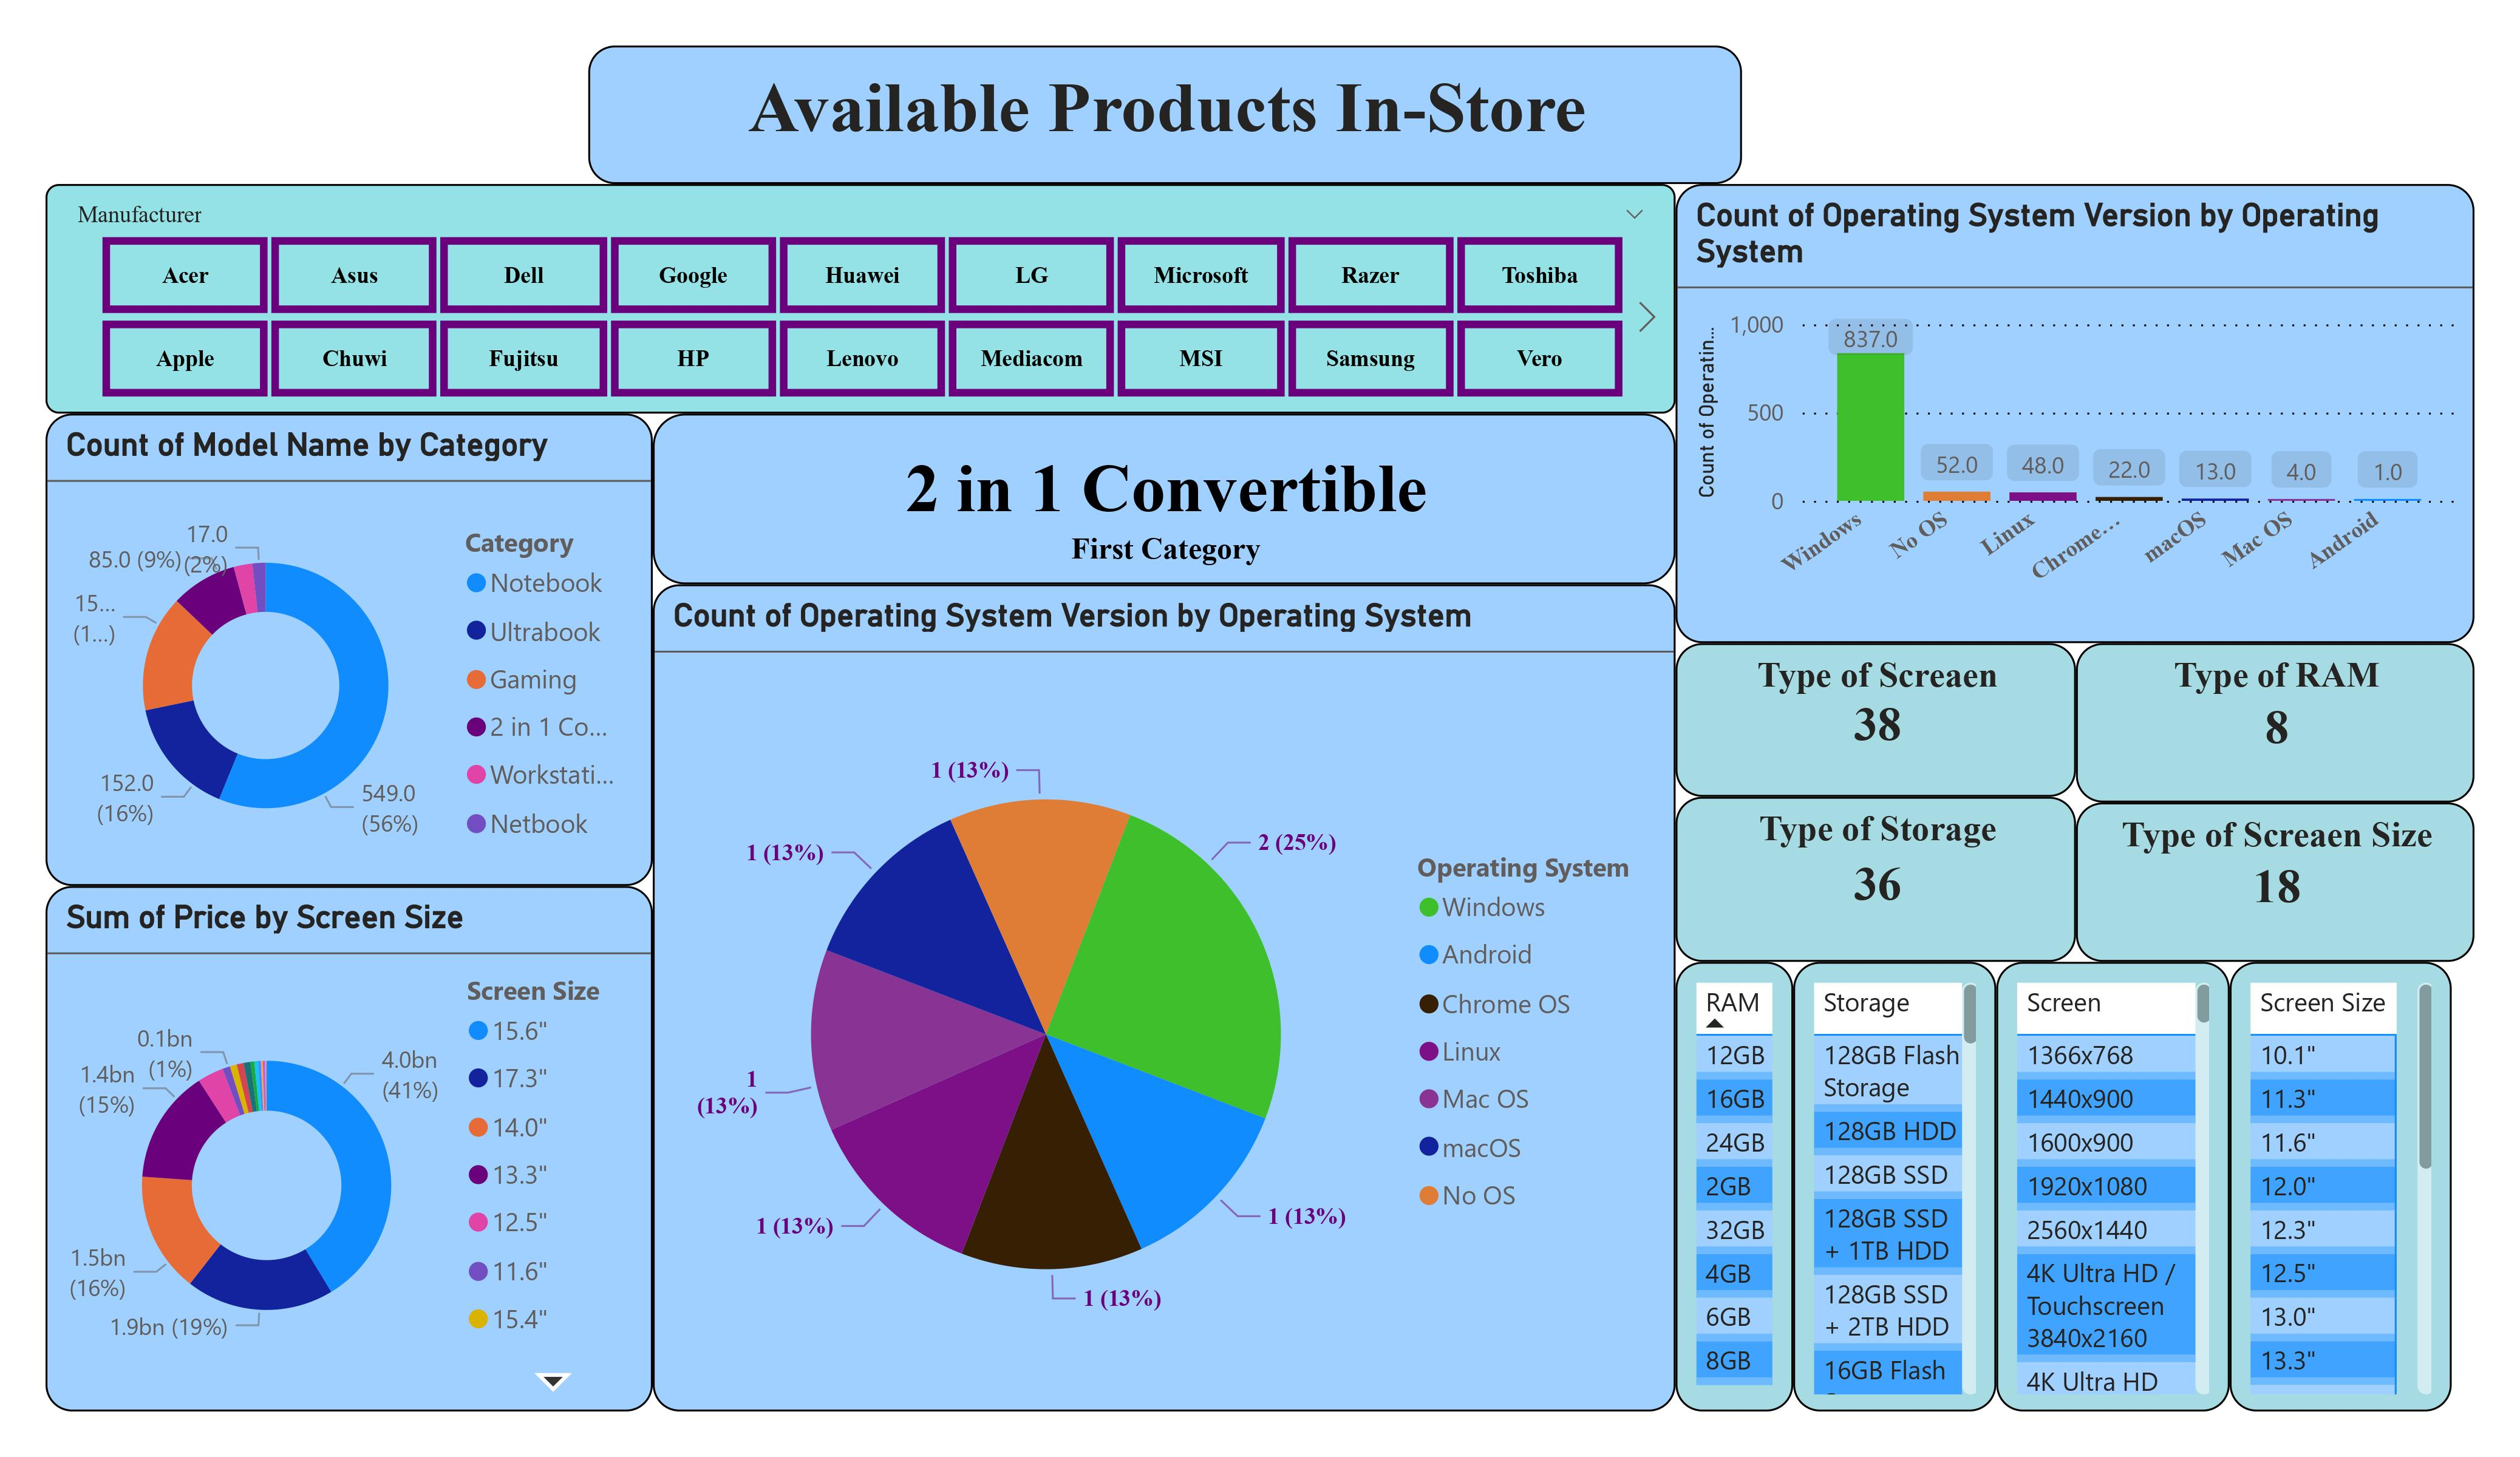

What the dashboard file says about the page in this screenshot:
{"tool":"powerbi","page":{"name":"Page 1","canvas":[1280,720],"ordinal":0},"visuals":[{"type":"donutChart","fields":{"Category":["laptops_train.Category"],"Y":["CountNonNull(laptops_train.Model Name)"]},"box":[0,194,320,248.6],"z":0},{"type":"card","fields":{"Values":["Min(laptops_train.Category)"]},"box":[319.8,194.4,539.4,89.4],"z":1000},{"type":"columnChart","fields":{"Category":["laptops_train.Operating System"],"Y":["CountNonNull(laptops_train.Operating System Version)"]},"box":[859.2,72.9,420.8,242],"z":2000},{"type":"slicer","fields":{"Values":["laptops_train.Manufacturer"]},"box":[0,72.9,859.2,121.5],"z":3000},{"type":"donutChart","fields":{"Category":["laptops_train.Screen Size"],"Y":["Sum(laptops_train.Price)"]},"box":[0,442.6,320,277.6],"z":4000},{"type":"card","title":"Type of RAM","fields":{"Values":["Count(laptops_train.RAM)"]},"box":[1070.1,314.9,209.9,84.6],"z":5000},{"type":"card","title":"Type of Screaen","fields":{"Values":["Count(laptops_train.Screen)"]},"box":[859.2,314.9,210.9,80.7],"z":6000},{"type":"card","title":"Type of Screaen Size","fields":{"Values":["Count(laptops_train.Screen Size)"]},"box":[1070.1,399.5,209.9,83.6],"z":7000},{"type":"card","title":"Type of Storage","fields":{"Values":["Count(laptops_train.Storage)"]},"box":[859.2,395.6,210.9,87.5],"z":8000},{"type":"pieChart","fields":{"Category":["laptops_train.Operating System","laptops_train.Manufacturer","laptops_train.RAM","laptops_train.Screen","laptops_train.Screen Size","laptops_train.Storage"],"Y":["Count(laptops_train.Operating System Version)"]},"box":[319.8,283.8,539.4,436.4],"z":9000},{"type":"pivotTable","fields":{"Rows":["laptops_train.RAM"]},"box":[859.2,483,62.2,237.1],"z":10000},{"type":"pivotTable","fields":{"Rows":["laptops_train.Storage"]},"box":[921.4,483,106.9,237.1],"z":11000},{"type":"pivotTable","fields":{"Rows":["laptops_train.Screen"]},"box":[1028.3,483,122.5,237.1],"z":12000},{"type":"pivotTable","fields":{"Rows":["laptops_train.Screen Size"]},"box":[1150.7,483,117.6,237.1],"z":13000},{"type":"textbox","box":[285.7,0,608.4,72.9],"z":14000}]}

Visuals, with their boxes in screenshot pixels (x1, y1, x2, y2):
donutChart - laptops_train.Category x CountNonNull(laptops_train.Model Name): [left=46, top=413, right=653, bottom=885]
card - Min(laptops_train.Category): [left=652, top=414, right=1676, bottom=584]
columnChart - laptops_train.Operating System x CountNonNull(laptops_train.Operating System Version): [left=1676, top=184, right=2474, bottom=643]
slicer - laptops_train.Manufacturer: [left=46, top=184, right=1676, bottom=414]
donutChart - laptops_train.Screen Size x Sum(laptops_train.Price): [left=46, top=885, right=653, bottom=1411]
"Type of RAM" card: [left=2076, top=643, right=2474, bottom=803]
"Type of Screaen" card: [left=1676, top=643, right=2076, bottom=796]
"Type of Screaen Size" card: [left=2076, top=803, right=2474, bottom=962]
"Type of Storage" card: [left=1676, top=796, right=2076, bottom=962]
pieChart - laptops_train.Operating System x laptops_train.Manufacturer: [left=652, top=584, right=1676, bottom=1411]
pivotTable - laptops_train.RAM: [left=1676, top=962, right=1794, bottom=1411]
pivotTable - laptops_train.Storage: [left=1794, top=962, right=1997, bottom=1411]
pivotTable - laptops_train.Screen: [left=1997, top=962, right=2229, bottom=1411]
pivotTable - laptops_train.Screen Size: [left=2229, top=962, right=2452, bottom=1411]
textbox: [left=588, top=46, right=1742, bottom=184]
